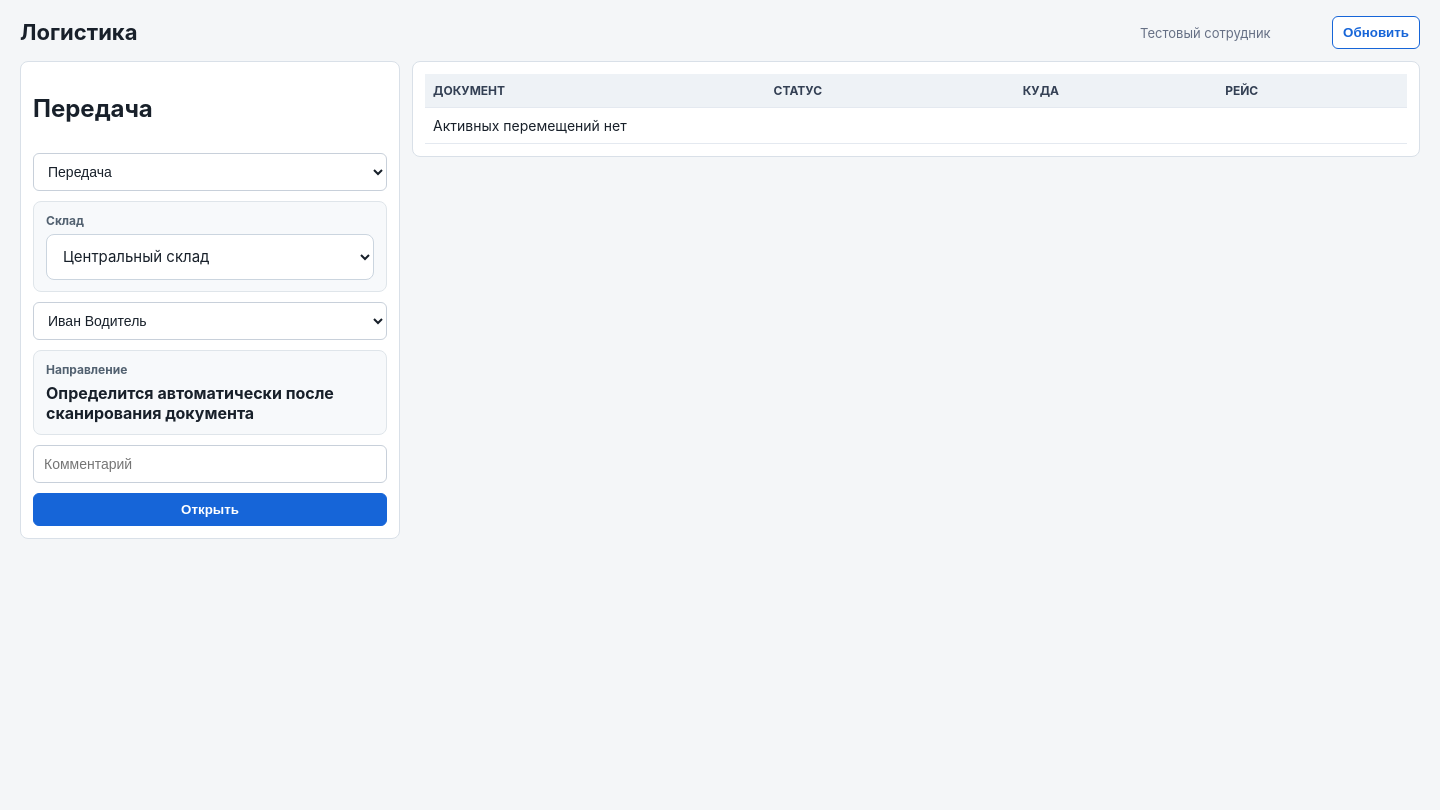
LogisticsFallbackApp › открывает администратору обе операции и выбор склада
This screenshot has width=1440, height=810.
Expected: the dropdown named "Склад операции" shows "Центральный склад", [46,234,374,280]
Select "Приёмка" in the dropdown named "Операция" at point(210, 172), box [33,153,387,191]
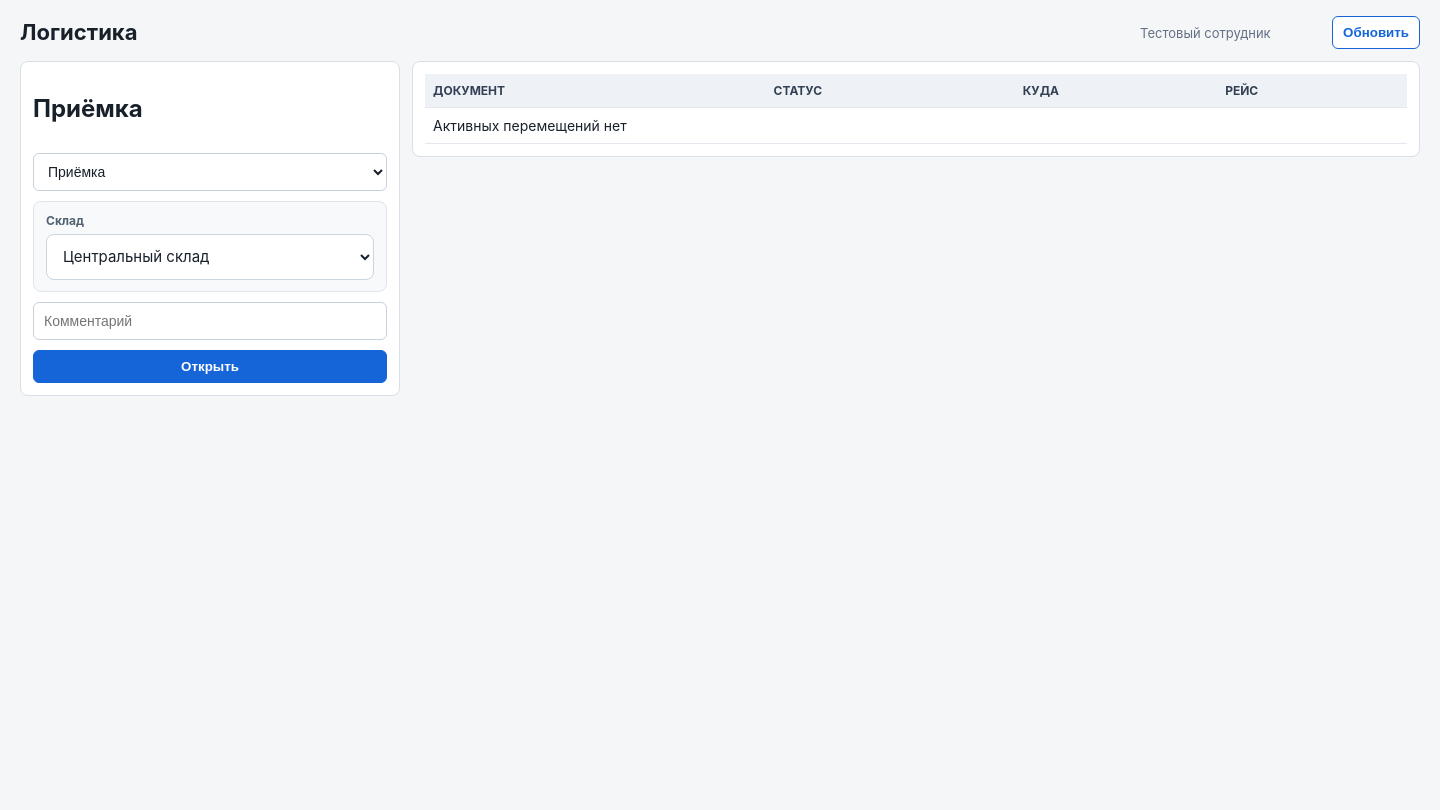
Select "Тёплый Стан" in the dropdown named "Склад операции" at point(210, 257), box [46,234,374,280]
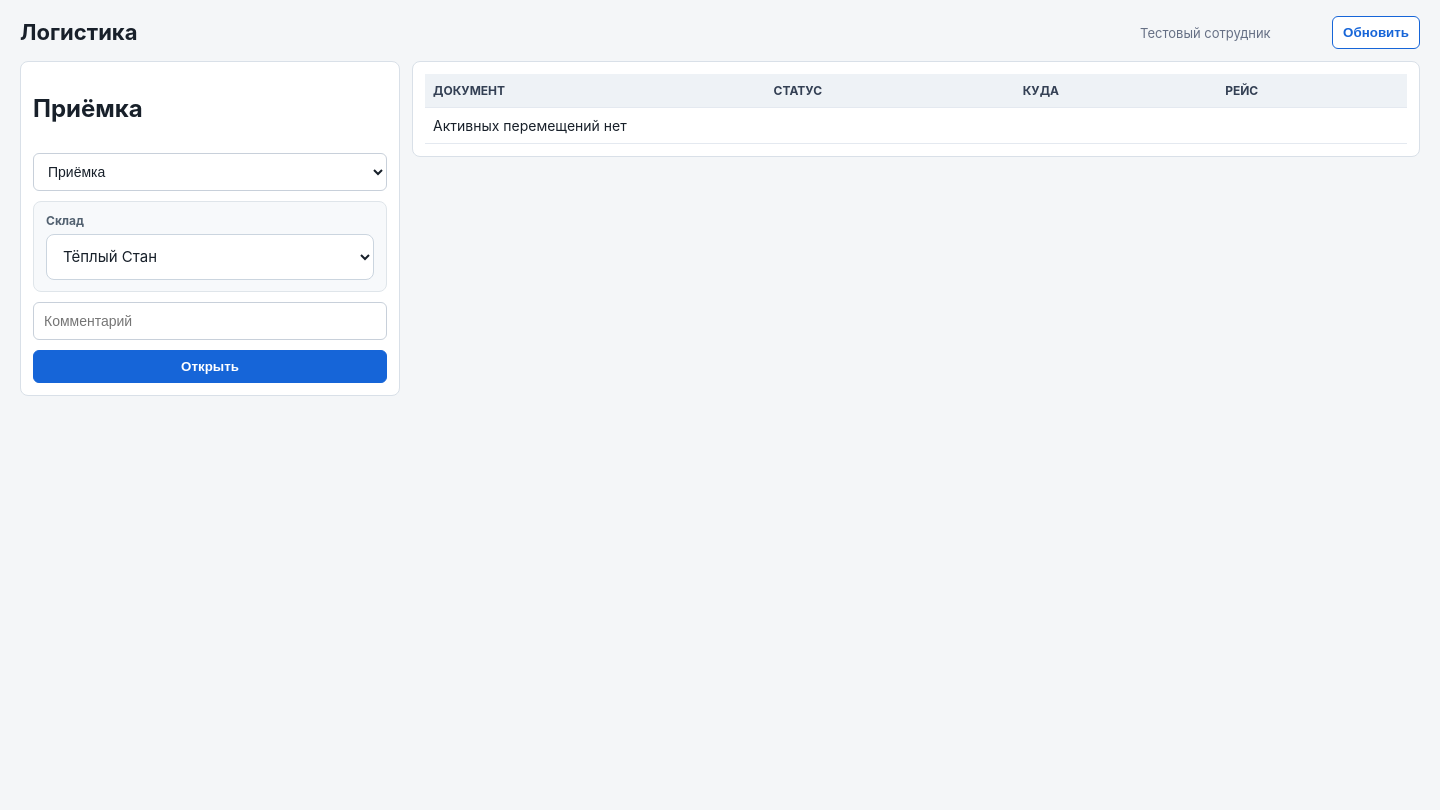
Click the button "Открыть" at point(210, 366), box [33,350,387,383]
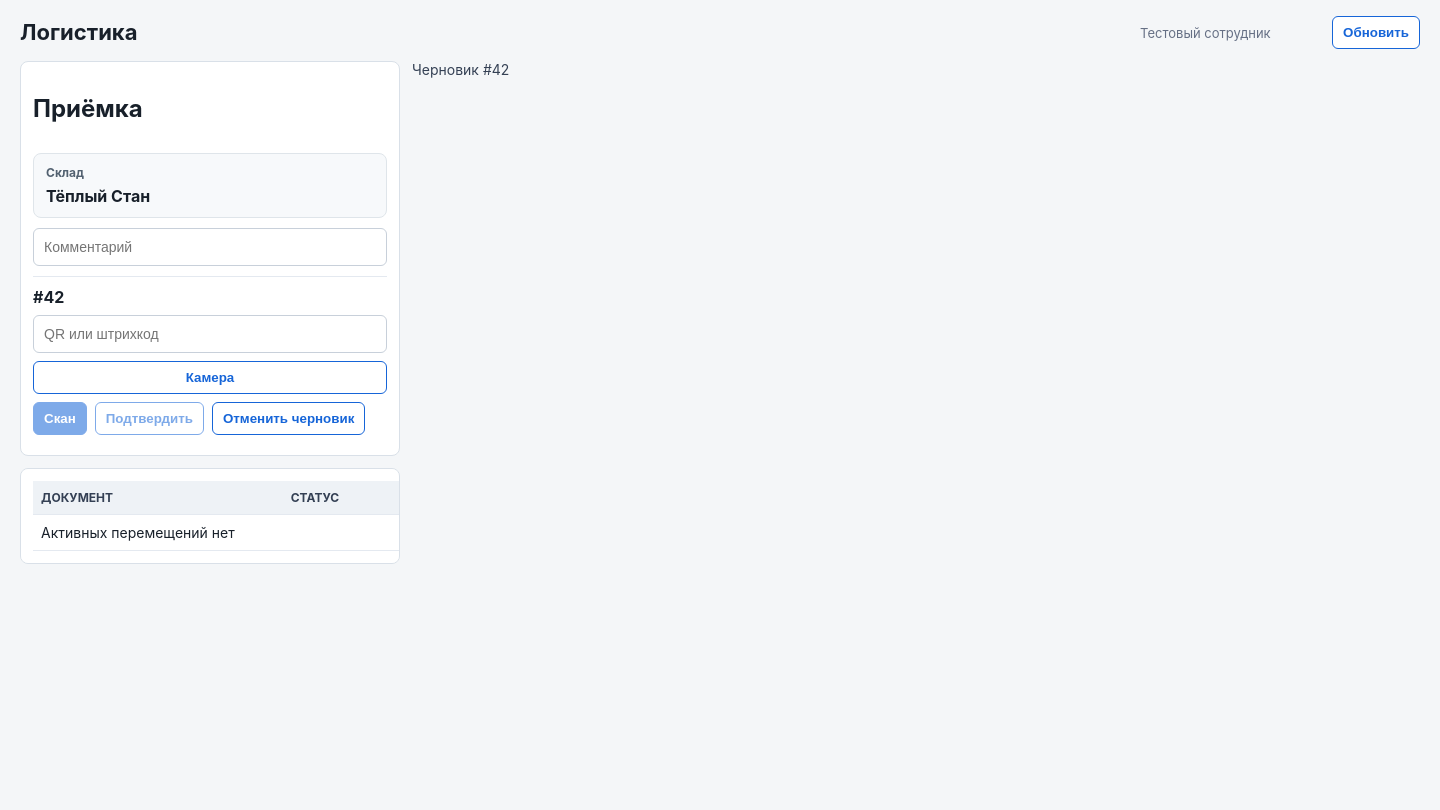
Result: the text "Черновик #42" is shown at [412,61,509,78]
